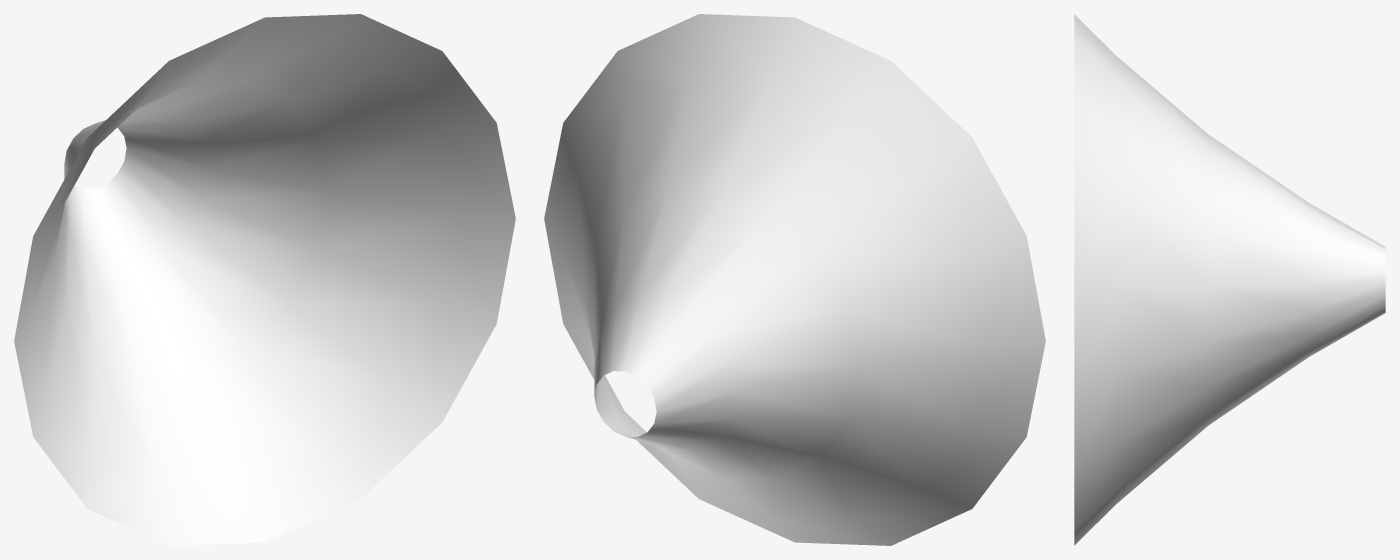
File: Mesh_Wind.fbx
3 views of the same model, side by side, from view 1: azimuth 30°, elevation 25°; view 2: azimuth 150°, elevation 25°; view 3: azimuth 270°, elevation 25° (orthographic). The views are drawn at different scales.
Visible parts, largest first — view 1: Cylinder; view 2: Cylinder; view 3: Cylinder.
Boxes of the visible parts, x1,y1,x2,y2 form: Cylinder: (14,14,515,545); Cylinder: (544,14,1045,545); Cylinder: (1074,14,1385,545).
Size of the model in its own units: 99.39 by 99.39 by 58.16.
1 material, 1 textured.
